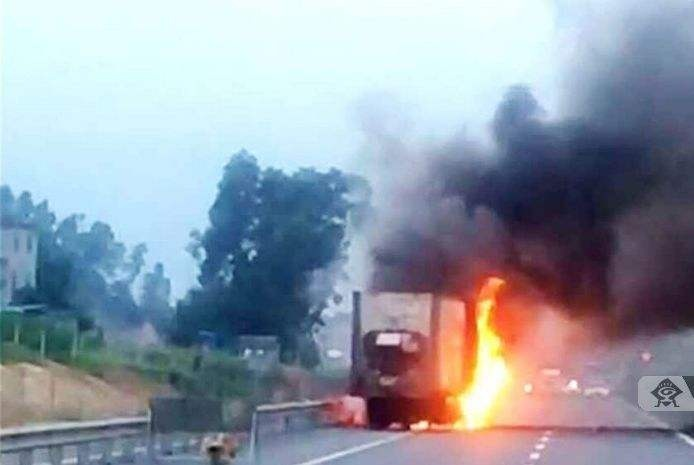fire: (446, 304, 515, 432)
